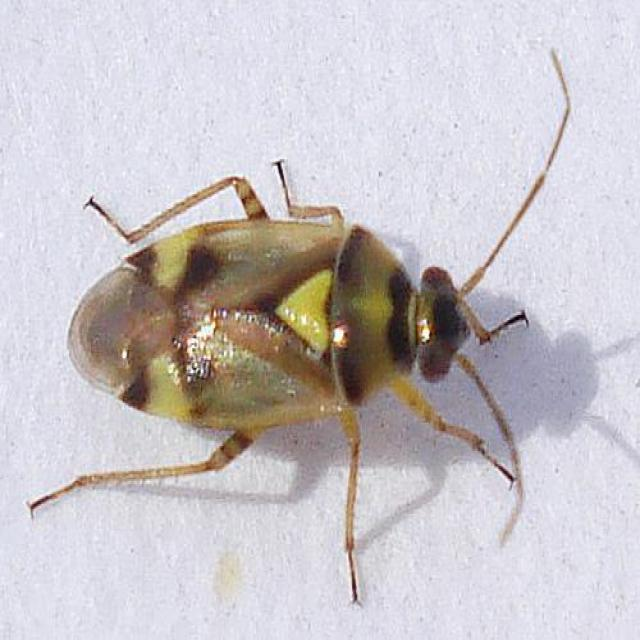Miridae-Adult-: (27, 44, 574, 612)
